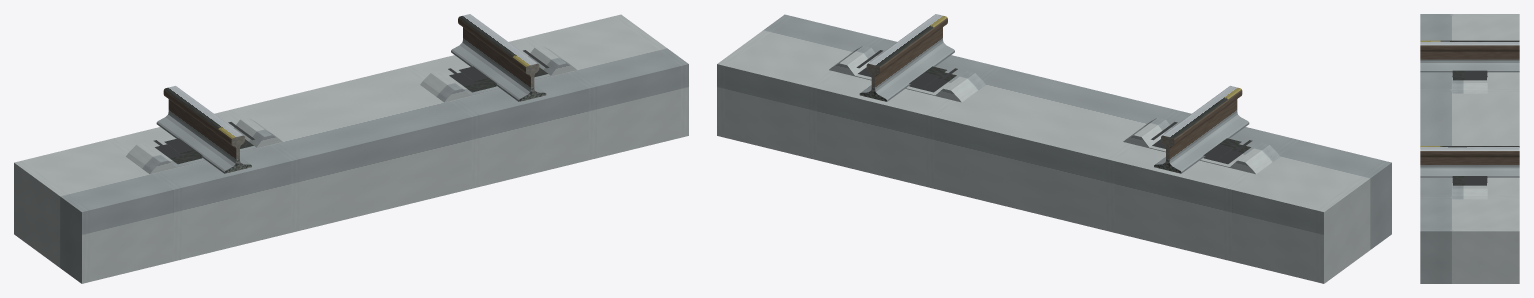
File: slab_low.obj
The picture shows the model from 3 angles, left to right: view 1: azimuth 30°, elevation 25°; view 2: azimuth 150°, elevation 25°; view 3: azimuth 270°, elevation 25°; orthographic projection. The views are drawn at different scales.
Visible parts, largest first — view 1: slab_bed, sleeper, rail_left, rail_right, fastener_right, fastener_left; view 2: slab_bed, sleeper, rail_left, rail_right, fastener_right, fastener_left; view 3: slab_bed, rail_left, rail_right, sleeper, fastener_left, fastener_right.
Part boxes in pixels (x1,y1,x2,y2): slab_bed: [14, 14, 688, 283]; sleeper: [126, 45, 576, 174]; rail_left: [156, 86, 250, 173]; rail_right: [451, 14, 544, 101]; fastener_right: [448, 50, 549, 92]; fastener_left: [153, 122, 254, 164]; slab_bed: [717, 14, 1391, 283]; sleeper: [829, 45, 1279, 174]; rail_left: [1155, 86, 1249, 173]; rail_right: [861, 14, 954, 101]; fastener_right: [856, 50, 957, 92]; fastener_left: [1151, 122, 1252, 164]; slab_bed: [1420, 14, 1519, 283]; rail_left: [1420, 40, 1519, 72]; rail_right: [1420, 146, 1519, 177]; sleeper: [1452, 73, 1487, 199]; fastener_left: [1452, 70, 1487, 80]; fastener_right: [1452, 176, 1487, 185].
Bounding box in the file's own units: 3.1 × 0.5324 × 0.6.
